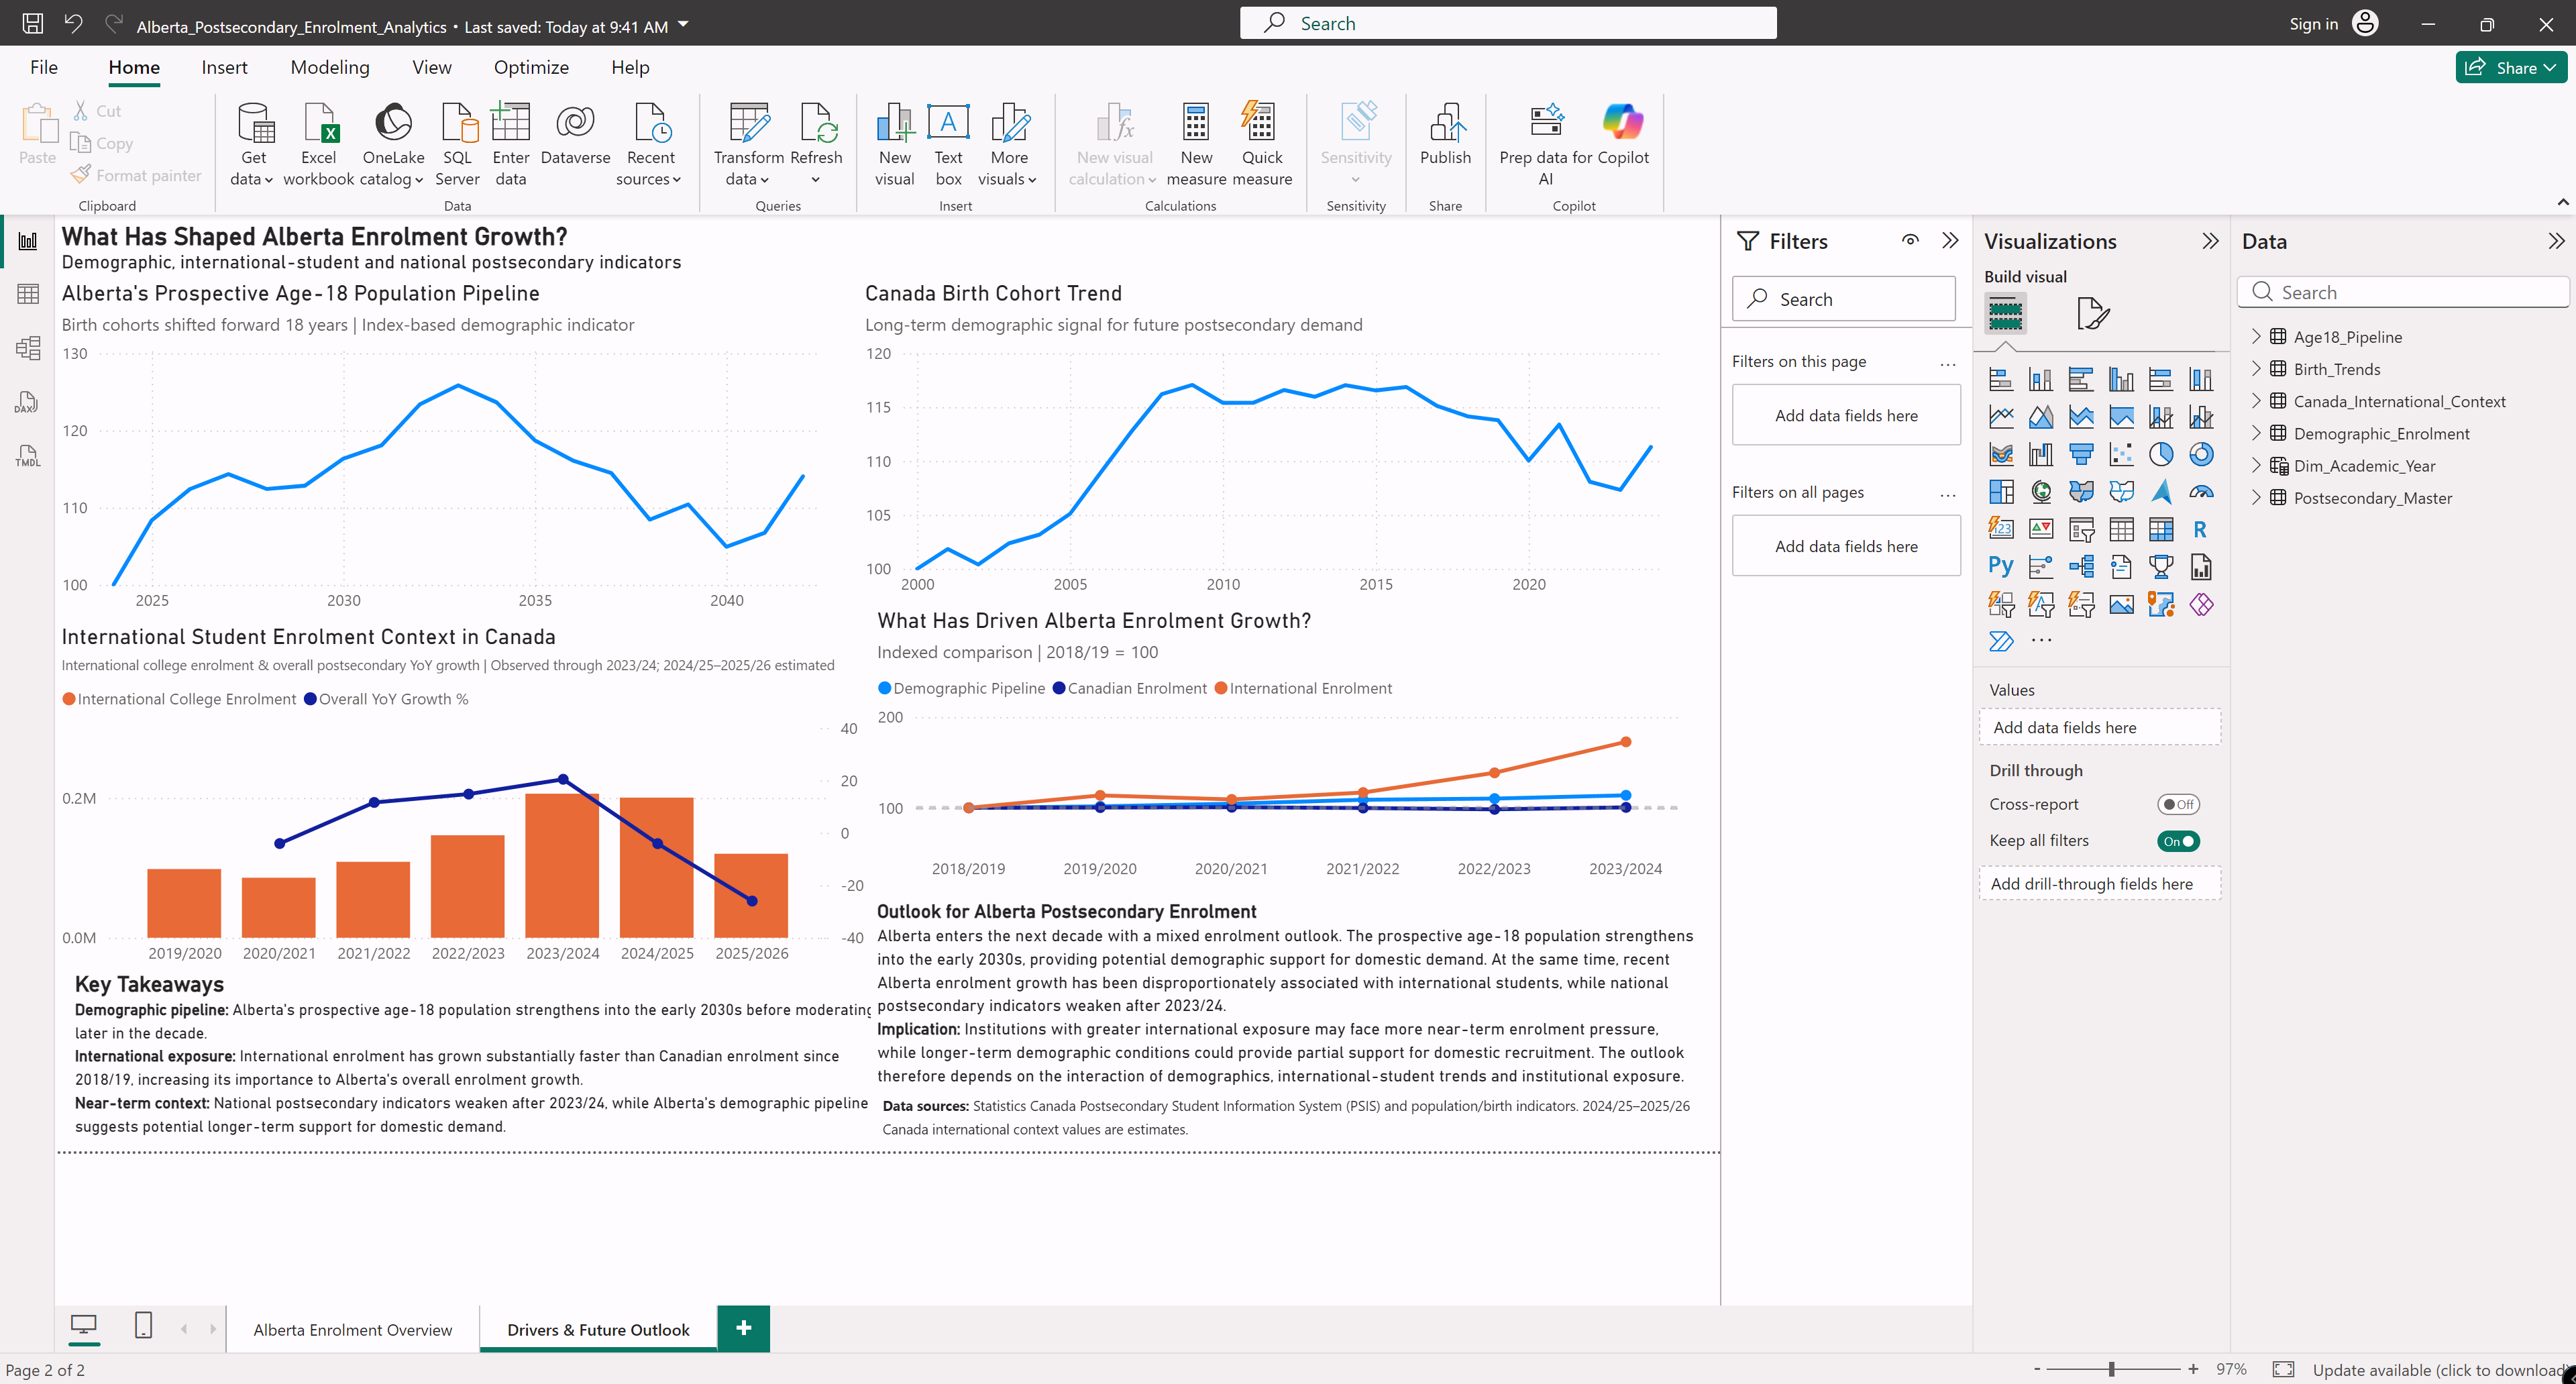

This screenshot's page, from the dashboard's own definition file:
{"tool":"powerbi","page":{"name":"Drivers & Future Outlook","canvas":[1280,720],"ordinal":1},"visuals":[{"type":"textbox","box":[0,0,542.5,58.8],"z":0},{"type":"lineChart","title":"Alberta''s Prospective Age-18 Population Pipeline","fields":{"Category":["Age18_Pipeline.Approx_Age18_Year"],"Y":["Sum(Age18_Pipeline.Alberta_Age18_Pipeline_Index)"]},"box":[0,50.5,593.1,264],"z":1000},{"type":"lineClusteredColumnComboChart","title":"International Student Enrolment Context in Canada","fields":{"Category":["Canada_International_Context.Academic_Year"],"Y":["Sum(Canada_International_Context.College)"],"Y2":["Avg(Canada_International_Context.Total_YoY_Pct)"]},"box":[0,314.6,627.1,271.3],"z":2000},{"type":"lineChart","title":"Canada Birth Cohort Trend","fields":{"Category":["Birth_Trends.Year"],"Y":["Sum(Birth_Trends.Canada_Birth_Index)"]},"box":[617.8,50.5,627.1,251.7],"z":3000},{"type":"textbox","box":[10.3,576.6,629.2,143.4],"z":4000},{"type":"lineChart","title":"What Has Driven Alberta Enrolment Growth?","fields":{"Category":["Demographic_Enrolment.Academic_Year"],"Y":["Sum(Demographic_Enrolment.Birth_Cohort_Index)","Sum(Demographic_Enrolment.Canadian_Enrolment_Index)","Sum(Demographic_Enrolment.International_Enrolment_Index)"]},"box":[627.1,302.2,626.1,218.7],"z":5000},{"type":"textbox","box":[627.1,520.9,640.5,175.3],"z":6000},{"type":"textbox","box":[631.2,669.4,648.8,51.6],"z":6001}]}

Visuals, with their boxes on the page's 1280x720 design canvas (x1, y1, x2, y2). These are canvas units, not pixel positions in the 2576x1384 screenshot, which may show the page scaled, cropped or inside an application window:
textbox: [x1=0, y1=0, x2=542, y2=59]
"Alberta''s Prospective Age-18 Population Pipeline" lineChart: [x1=0, y1=50, x2=593, y2=314]
"International Student Enrolment Context in Canada" lineClusteredColumnComboChart: [x1=0, y1=315, x2=627, y2=586]
"Canada Birth Cohort Trend" lineChart: [x1=618, y1=50, x2=1245, y2=302]
textbox: [x1=10, y1=577, x2=640, y2=720]
"What Has Driven Alberta Enrolment Growth?" lineChart: [x1=627, y1=302, x2=1253, y2=521]
textbox: [x1=627, y1=521, x2=1268, y2=696]
textbox: [x1=631, y1=669, x2=1280, y2=721]
